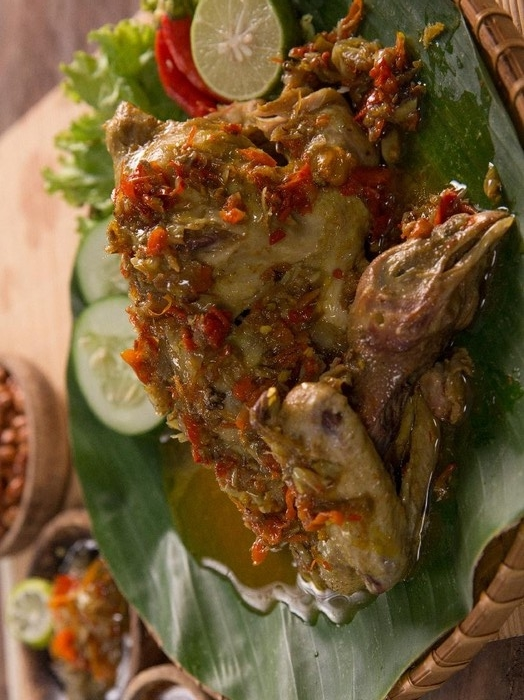ayam_betutu: (103, 89, 516, 594)
